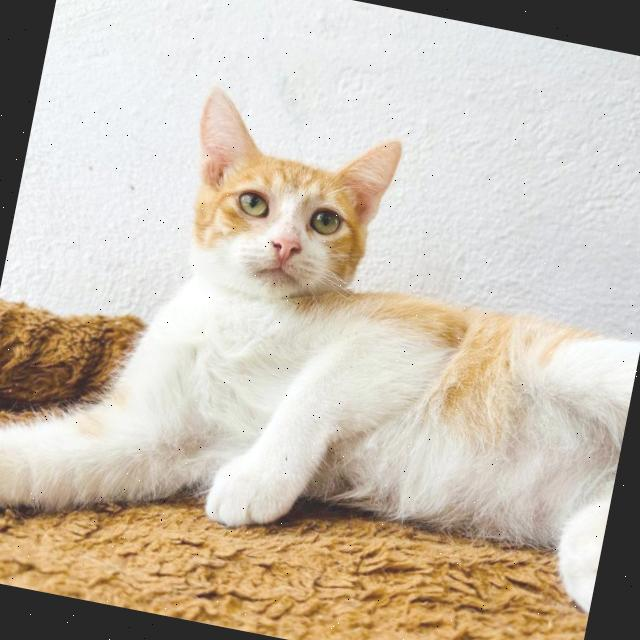american_shorthair_cat: (126, 76, 426, 354)
